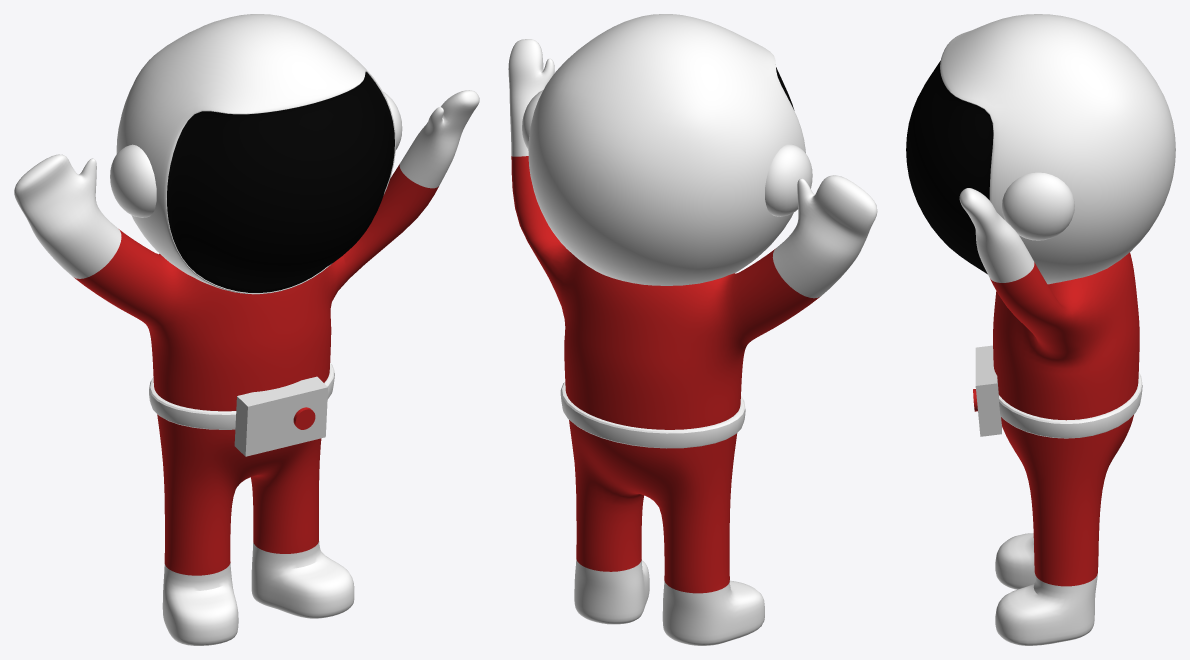
The model's file is astronaut-hands-up.glb.
3 renders of one model, left to right at view 1: azimuth 30°, elevation 25°; view 2: azimuth 150°, elevation 25°; view 3: azimuth 270°, elevation 25°, orthographic.
Visible parts, largest first — view 1: Roundcube.053, Roundcube.029, Roundcube.001, Cube.003, Roundcube.030, Roundcube.028; view 2: Roundcube.053, Roundcube.029, Roundcube.001, Roundcube.028, Roundcube.030; view 3: Roundcube.053, Roundcube.029, Roundcube.001, Roundcube.030, Roundcube.028, Cube.003.
Boxes of the visible parts, x1=… form: Roundcube.053: x1=116, y1=14, x2=395, y2=294; Roundcube.029: x1=14, y1=90, x2=479, y2=411; Roundcube.001: x1=157, y1=414, x2=354, y2=645; Cube.003: x1=234, y1=376, x2=328, y2=456; Roundcube.030: x1=110, y1=91, x2=402, y2=217; Roundcube.028: x1=149, y1=363, x2=334, y2=429; Roundcube.053: x1=528, y1=14, x2=805, y2=285; Roundcube.029: x1=508, y1=39, x2=877, y2=429; Roundcube.001: x1=569, y1=420, x2=764, y2=645; Roundcube.028: x1=560, y1=382, x2=745, y2=448; Roundcube.030: x1=522, y1=90, x2=812, y2=216; Roundcube.053: x1=906, y1=14, x2=1175, y2=284; Roundcube.029: x1=959, y1=188, x2=1139, y2=420; Roundcube.001: x1=995, y1=415, x2=1133, y2=645; Roundcube.030: x1=1002, y1=172, x2=1074, y2=240; Roundcube.028: x1=999, y1=372, x2=1142, y2=438; Cube.003: x1=975, y1=345, x2=1001, y2=436.
Bounding box in the file's own units: 1.38 × 1.89 × 0.7945.
